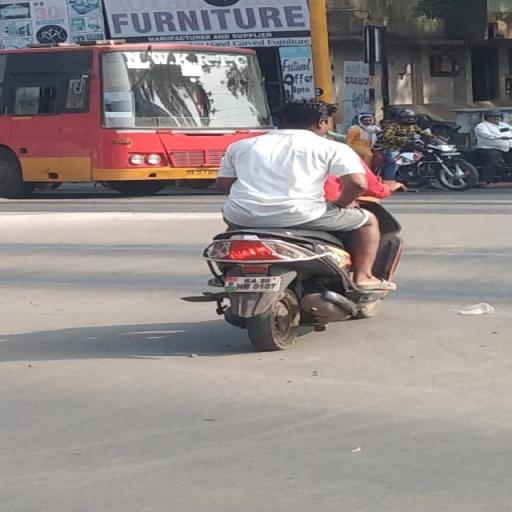bike: (186, 98, 414, 355)
numberplate: (224, 276, 280, 292)
withouthelmet: (278, 100, 332, 130)
